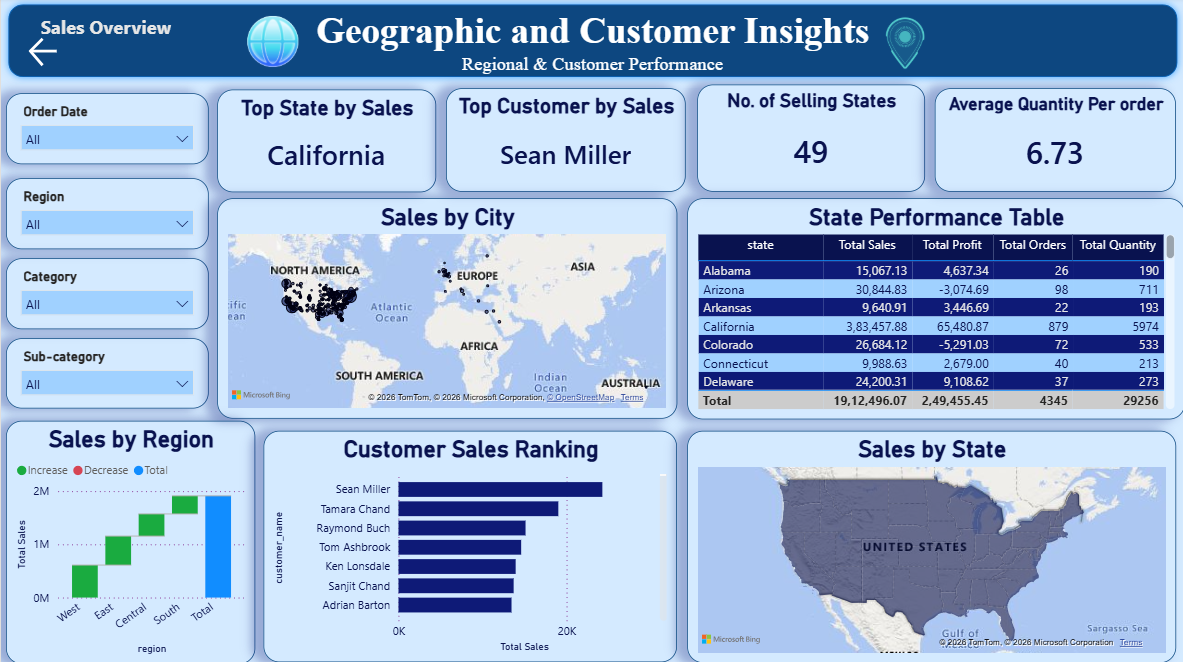

The dashboard page shown, as its layout file describes it:
{"tool":"powerbi","page":{"name":"Geographical Insights","canvas":[1280,720],"ordinal":1},"visuals":[{"type":"cardVisual","title":"Top State by Sales","fields":{"Data":["charu_customer_data.Top State by Sales"]},"box":[233.9,100,236.6,110.9],"z":0},{"type":"shape","box":[0,0,1280.3,94.6],"z":1000},{"type":"shape","box":[462,47.4,355,36.6],"z":2000},{"type":"slicer","fields":{"Values":["charu_customer_data.order_date"]},"box":[5.4,104.1,219,77.1],"z":3000},{"type":"slicer","fields":{"Values":["charu_customer_data.region"]},"box":[5.4,196,219,77.1],"z":4000},{"type":"slicer","fields":{"Values":["charu_customer_data.category"]},"box":[5.4,282.6,219,77.1],"z":5000},{"type":"slicer","fields":{"Values":["charu_customer_data.sub_category"]},"box":[5.4,369.1,219,75.7],"z":6000},{"type":"cardVisual","title":"No. of Selling States","fields":{"Data":["charu_customer_data.Number of States"]},"box":[753,94.6,246.1,116.3],"z":7000},{"type":"cardVisual","title":"Top Customer by Sales","fields":{"Data":["charu_customer_data.Top Customer by Sales"]},"box":[481.3,98.7,259.6,112.2],"z":8000},{"type":"cardVisual","title":"Average Quantity Per order","fields":{"Data":["charu_customer_data.Average Quantity per Order"]},"box":[1009.9,98.7,260.9,112.2],"z":9000},{"type":"tableEx","title":"State Performance Table","fields":{"Values":["charu_customer_data.state","charu_customer_data.Total Sales","charu_customer_data.Total Profit","charu_customer_data.Total Orders","charu_customer_data.Total Quantity"]},"box":[742.2,217.7,538.1,239.3],"z":10000},{"type":"filledMap","title":"Sales by State","fields":{"Category":["charu_customer_data.state"]},"box":[742.2,469.1,528.6,251.5],"z":11000},{"type":"map","title":"Sales by City","fields":{"Category":["charu_customer_data.city"],"Size":["charu_customer_data.Total Sales"]},"box":[234.4,218.1,497.2,238.4],"z":12000},{"type":"waterfallChart","title":"Sales by Region","fields":{"Category":["charu_customer_data.region"],"Y":["charu_customer_data.Total Sales"]},"box":[5.4,457.9,269.6,262.8],"z":13000},{"type":"clusteredBarChart","title":"Customer Sales Ranking","fields":{"Category":["charu_customer_data.customer_name"],"Y":["charu_customer_data.Total Sales"]},"box":[283.9,469.1,447.5,250.1],"z":14000},{"type":"image","box":[253.3,14.9,82.6,66.4],"z":15000},{"type":"image","box":[945.6,19,65,61],"z":16000},{"type":"actionButton","box":[25.7,14.9,176.1,65],"z":17000},{"type":"actionButton","box":[25.7,39.3,100.3,40.6],"z":18000}]}

Visuals, with their boxes in screenshot pixels (x1, y1, x2, y2), scaled from the page's 1280x720 canvas onto the 1183x662 screenshot:
"Top State by Sales" cardVisual: (216,92,435,194)
shape: (0,0,1182,87)
shape: (427,44,755,77)
slicer - charu_customer_data.order_date: (5,96,207,167)
slicer - charu_customer_data.region: (5,180,207,251)
slicer - charu_customer_data.category: (5,260,207,331)
slicer - charu_customer_data.sub_category: (5,339,207,409)
"No. of Selling States" cardVisual: (696,87,923,194)
"Top Customer by Sales" cardVisual: (445,91,685,194)
"Average Quantity Per order" cardVisual: (933,91,1174,194)
"State Performance Table" tableEx: (686,200,1182,420)
"Sales by State" filledMap: (686,431,1174,661)
"Sales by City" map: (217,201,676,420)
"Sales by Region" waterfallChart: (5,421,254,661)
"Customer Sales Ranking" clusteredBarChart: (262,431,676,661)
image: (234,14,310,75)
image: (874,17,934,74)
actionButton: (24,14,187,73)
actionButton: (24,36,116,73)
